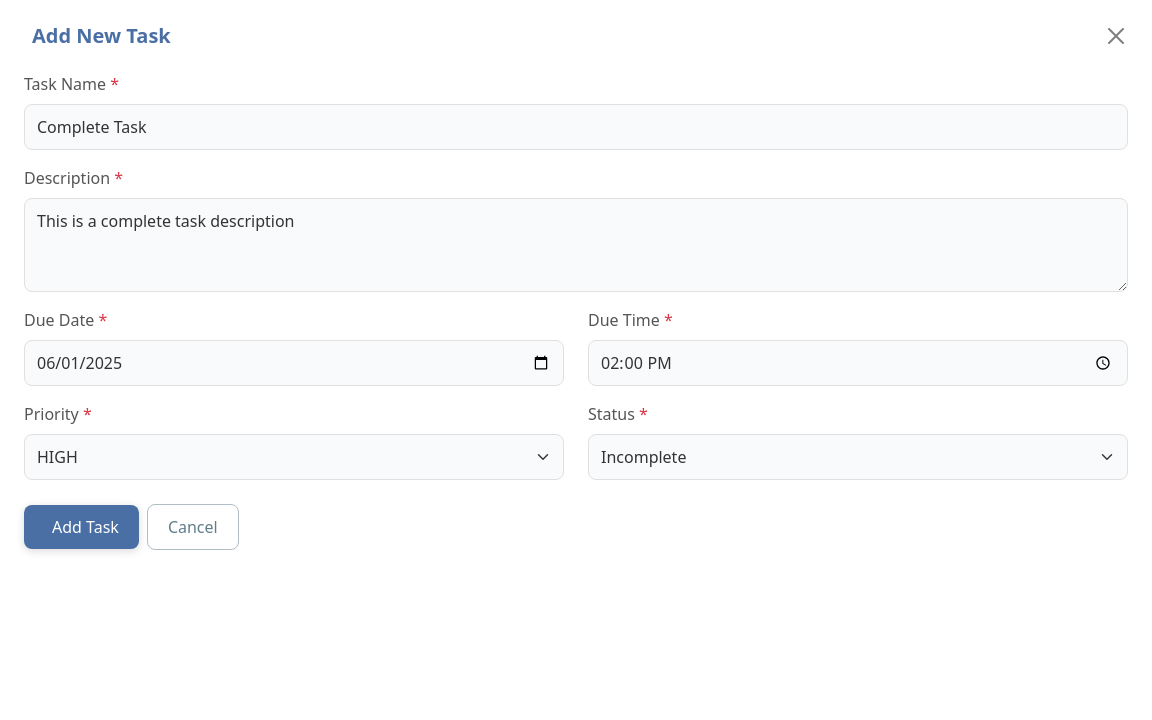
TaskForm Component › handles form submission error
This screenshot has width=1152, height=720.
Submit the form
Click the button "Add Task" at (81, 527), box [24,505,139,549]
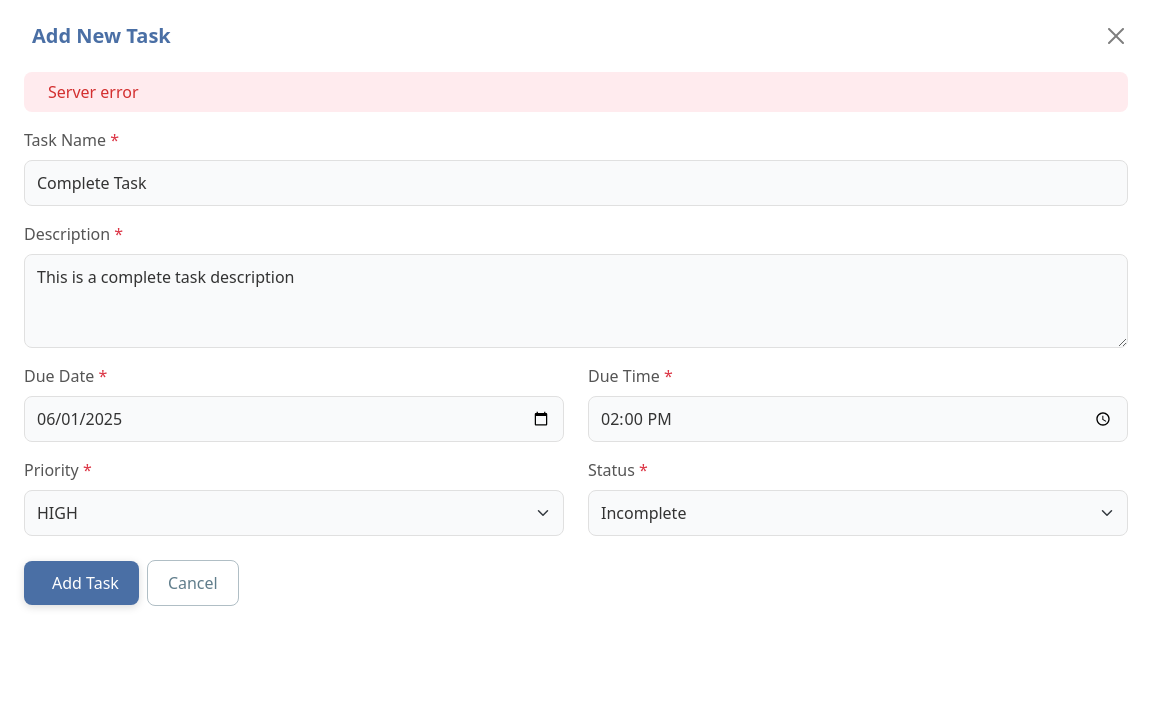
Expected: the text "Server error" is shown, [24,72,1128,112]
